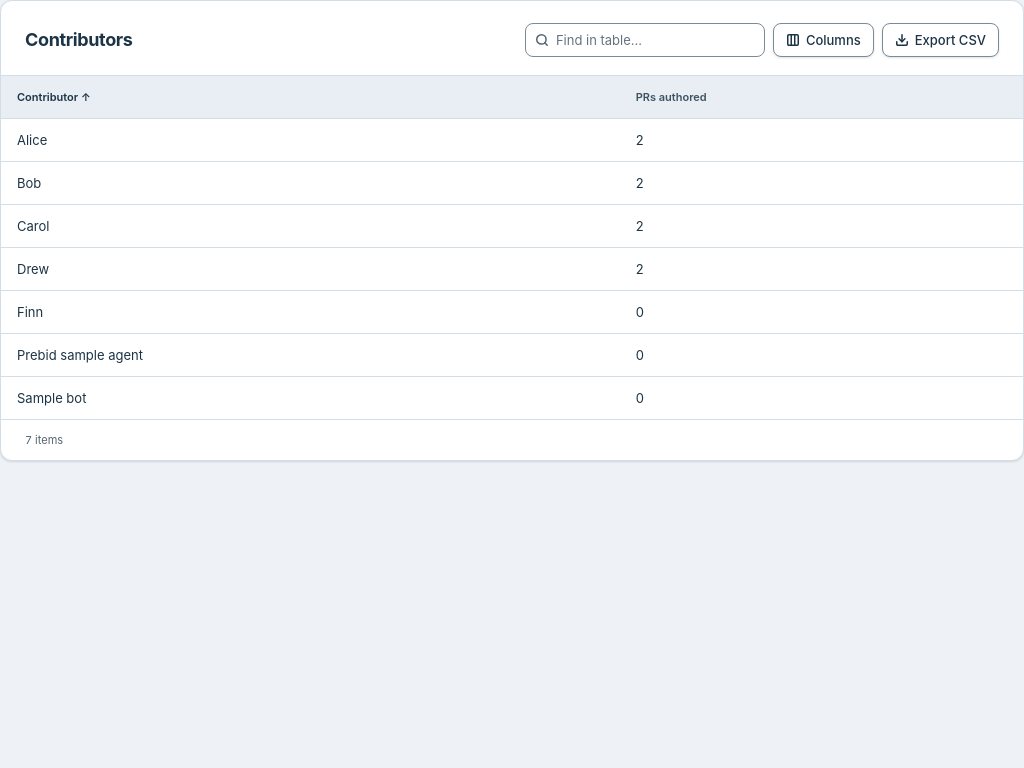
Test case: bounds a stalled export at 30 seconds and restores a usable retry action
This screenshot has width=1024, height=768.
Click the button "Export CSV".
click(940, 40)  # box [882,23,999,57]
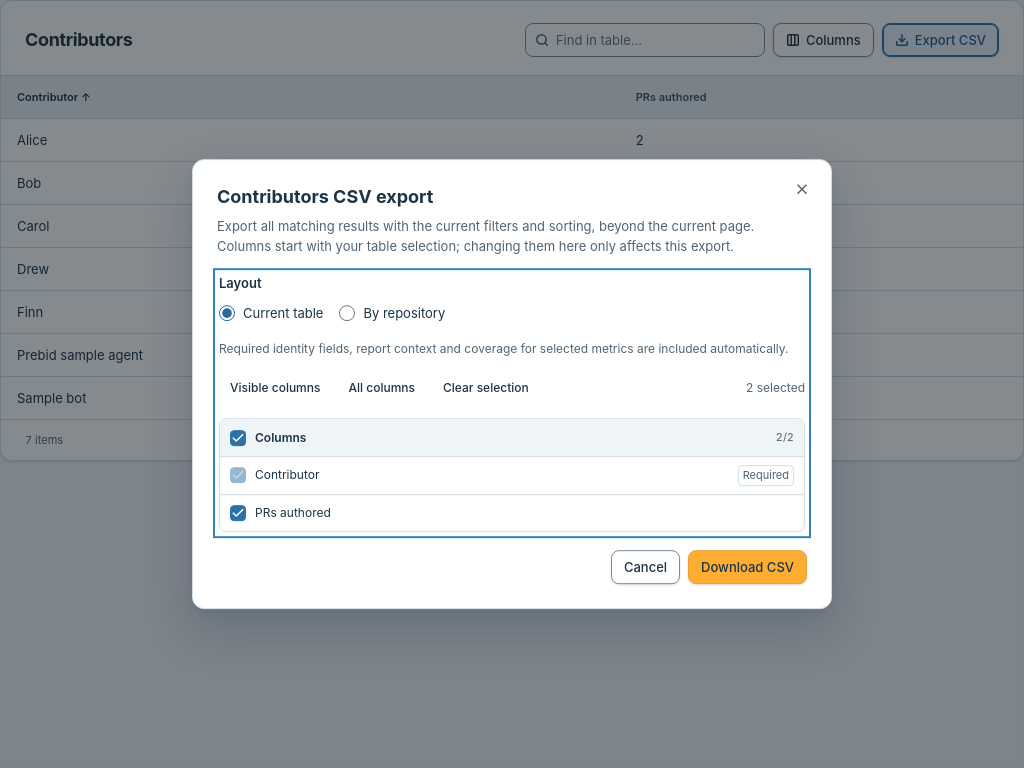
Click the radio button labelled "By repository".
click(347, 313)  # box [339,305,355,321]
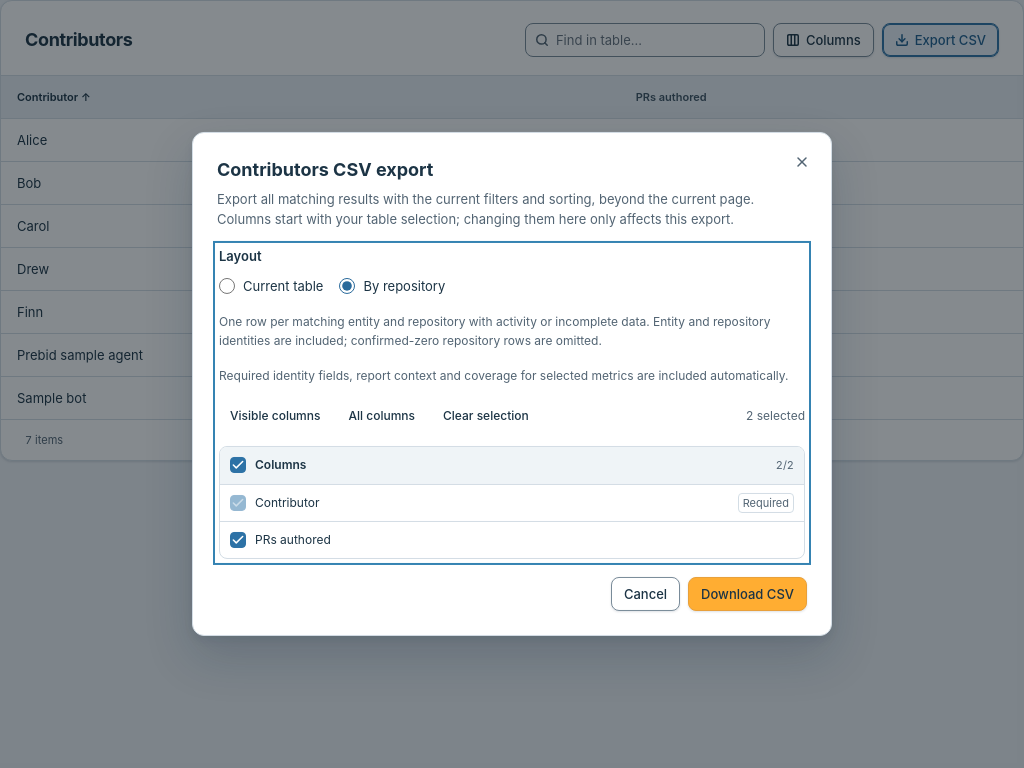
Click the button "Download CSV".
click(748, 594)  # box [688,577,807,611]
Wait 30000 ms
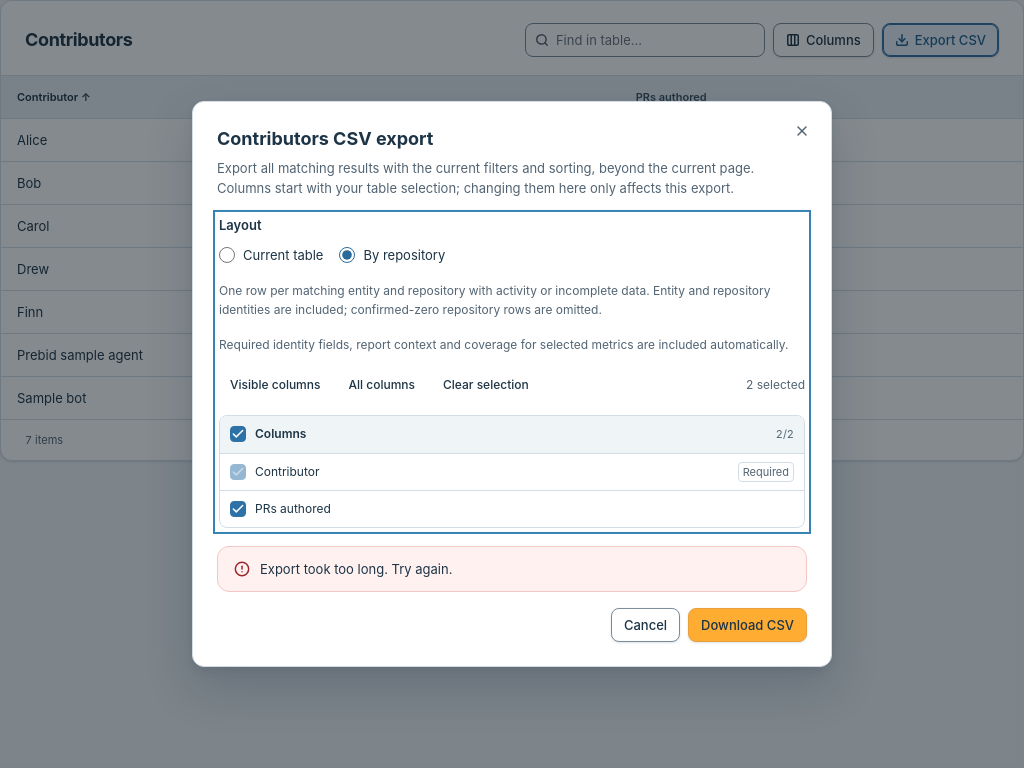
expect the button "Download CSV" is enabled: met, box [688,608,807,642]
expect the message reads "Export took too long. Try again.": met, box [260,561,452,577]
